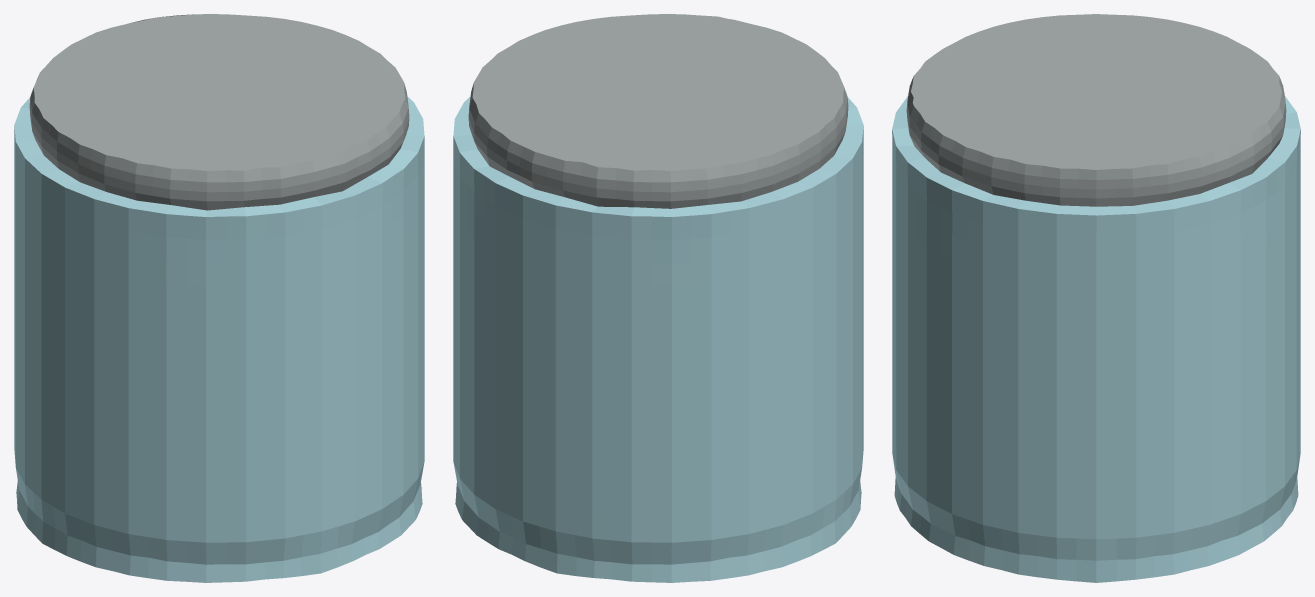
Rendered from jar.fbx.
The picture shows the model from 3 angles, left to right: view 1: azimuth 30°, elevation 25°; view 2: azimuth 150°, elevation 25°; view 3: azimuth 270°, elevation 25°; orthographic projection.
Parts seen in each view (by area): view 1: Cylinder; view 2: Cylinder; view 3: Cylinder.
Boxes of the visible parts, <box> form: Cylinder: <box>14,14,424,582</box>; Cylinder: <box>453,14,863,582</box>; Cylinder: <box>892,14,1300,582</box>.
Bounding box in the file's own units: 1000 × 1099 × 1001.
